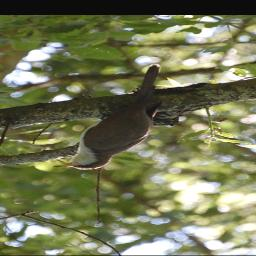Cuckoo: (52, 63, 167, 171)
